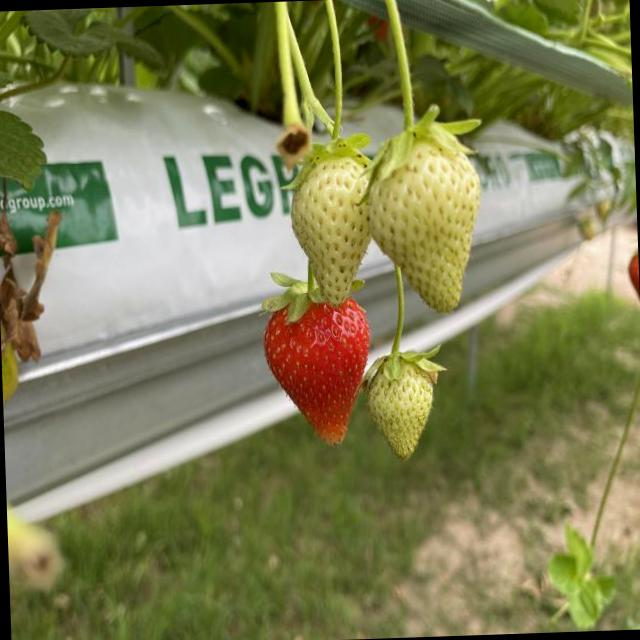stem: (372, 0, 477, 182), (302, 0, 370, 176), (363, 265, 446, 382), (261, 264, 326, 323)
strawberryNR: (368, 140, 480, 311), (291, 155, 370, 304), (367, 357, 432, 460)
strawberryR: (264, 298, 369, 444)
